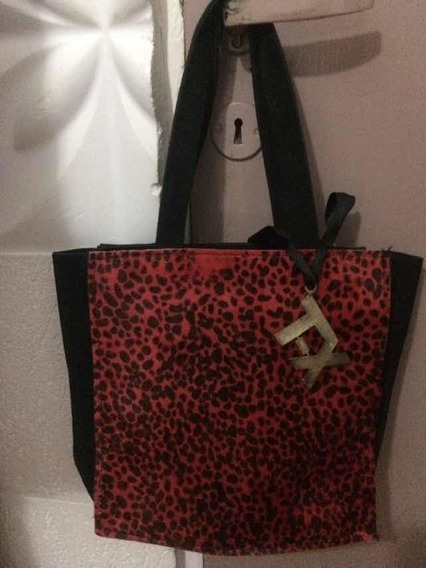cartera: (50, 1, 426, 555)
